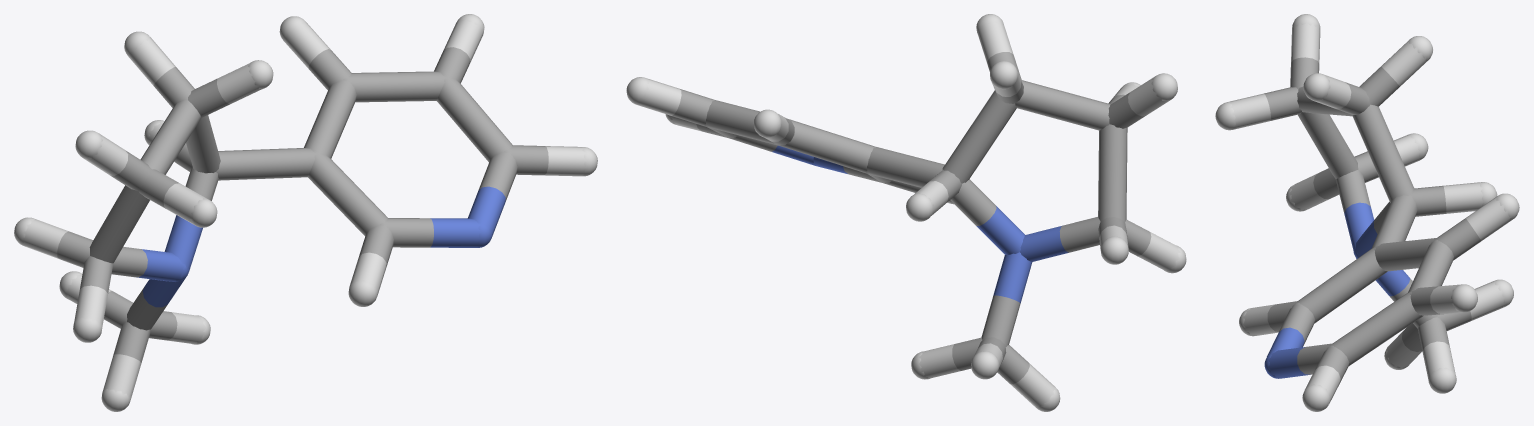
The model's file is nicotine-sticks.glb.
The picture shows the model from 3 angles, left to right: view 1: azimuth 30°, elevation 25°; view 2: azimuth 150°, elevation 25°; view 3: azimuth 270°, elevation 25°; orthographic projection. The views are drawn at different scales.
Parts seen in each view (by area): view 1: nicotine-sticks; view 2: nicotine-sticks; view 3: nicotine-sticks.
Boxes of the visible parts, x1,y1,x2,y2 form: nicotine-sticks: [14, 14, 597, 411]; nicotine-sticks: [626, 14, 1186, 411]; nicotine-sticks: [1215, 14, 1519, 411].
Bounding box in the file's own units: 8.26 × 5.39 × 4.28.
